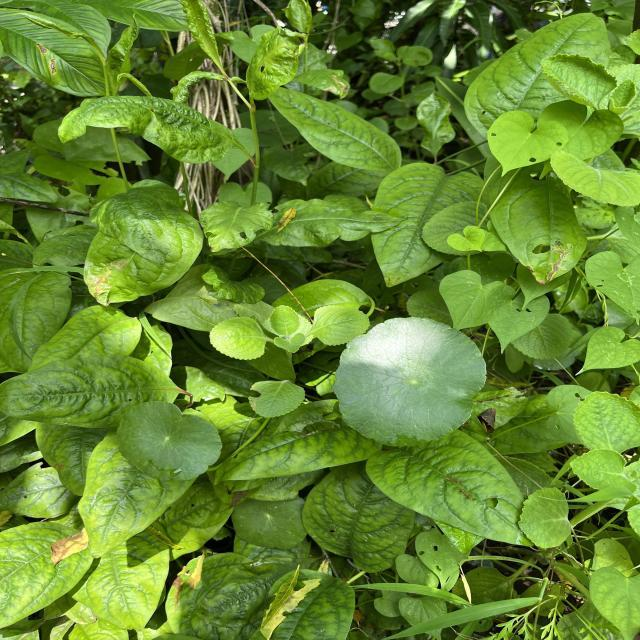Bacopa monnieri: (332, 314, 489, 448), (115, 398, 224, 483), (230, 488, 312, 550)
